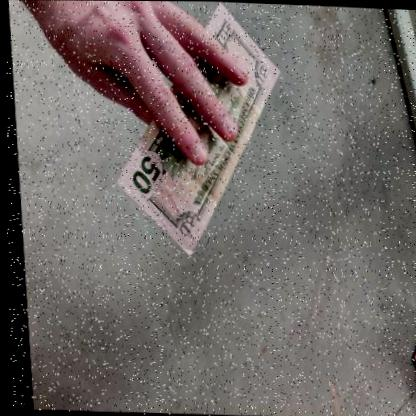fifty-back: (110, 3, 279, 261)
